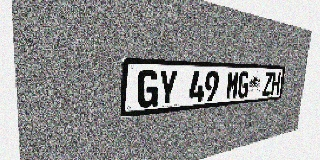4: (189, 71, 206, 103)
9: (204, 71, 219, 102)
G: (137, 70, 159, 108), (237, 72, 250, 98)
H: (271, 72, 281, 95)
M: (226, 71, 239, 100)
Y: (158, 70, 178, 106)
Z: (262, 72, 273, 96)
